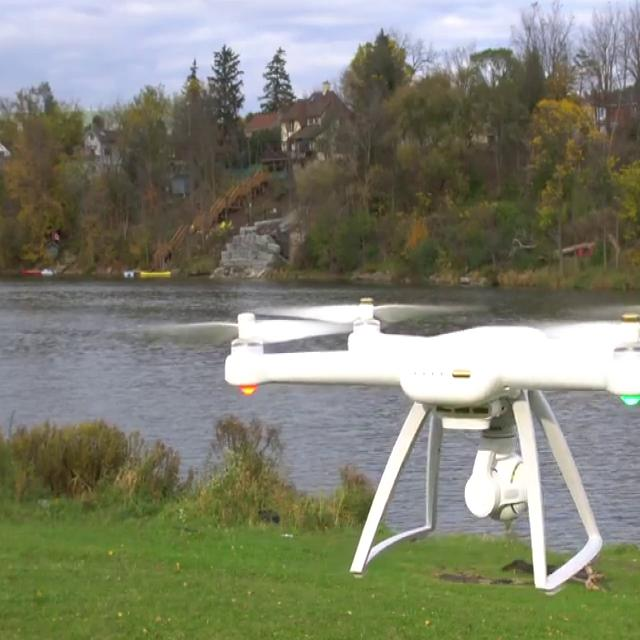drone: (137, 268, 640, 448)
